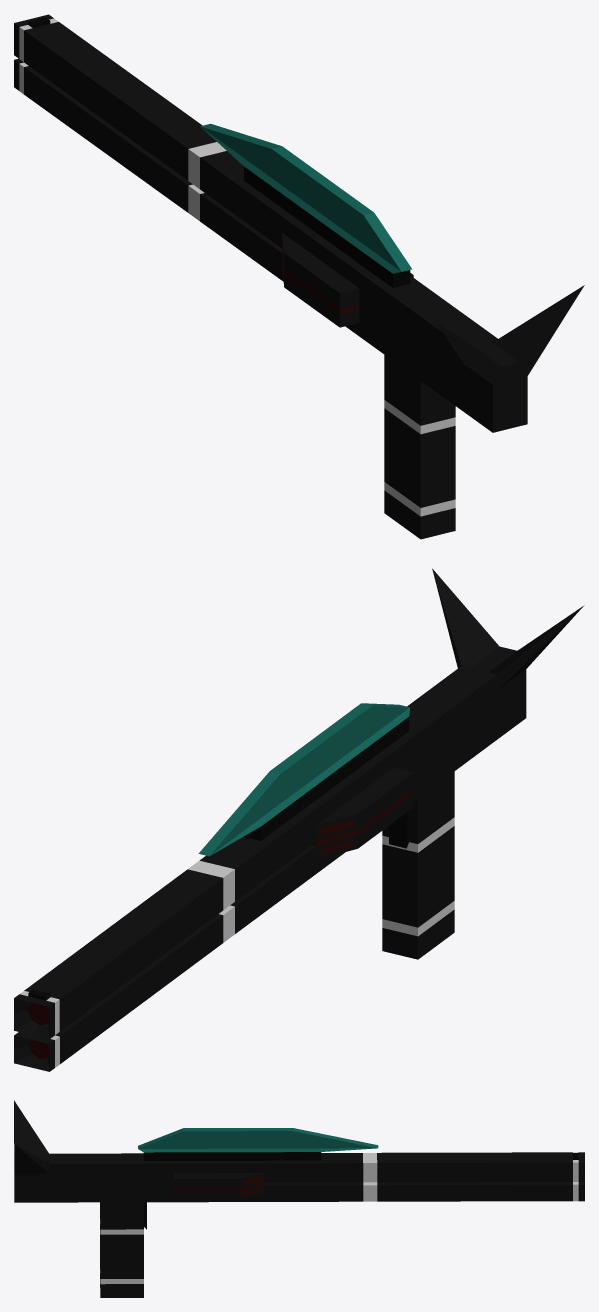
The model's file is MachineGun.obj.
The picture shows the model from 3 angles, top to bottom: view 1: azimuth 30°, elevation 25°; view 2: azimuth 150°, elevation 25°; view 3: azimuth 270°, elevation 25°; orthographic projection. The views are drawn at different scales.
Visible parts, largest first — view 1: Pulse_Rifle_Cube.002; view 2: Pulse_Rifle_Cube.002; view 3: Pulse_Rifle_Cube.002.
Part boxes in pixels (left/top/right/bottom): Pulse_Rifle_Cube.002: left=14, top=14, right=584, bottom=539; Pulse_Rifle_Cube.002: left=14, top=568, right=584, bottom=1071; Pulse_Rifle_Cube.002: left=14, top=1100, right=584, bottom=1297.
Bounding box in the file's own units: 0.1929 × 0.3491 × 1.06.
